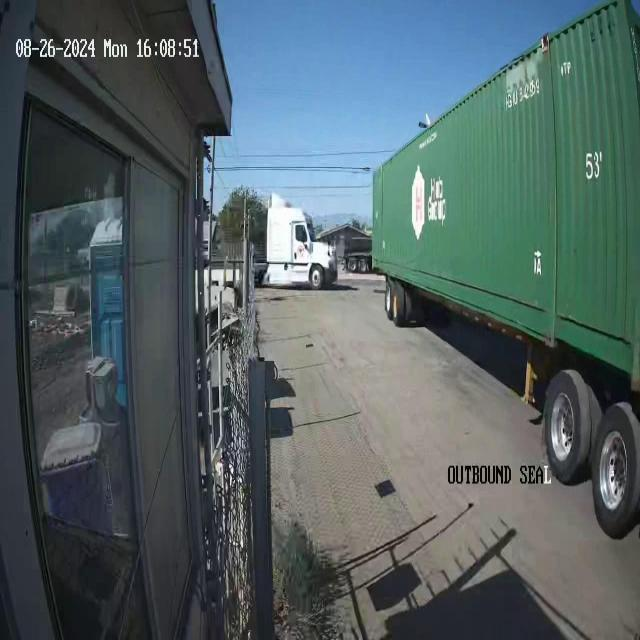TRUCK_IN: (371, 1, 639, 538)
